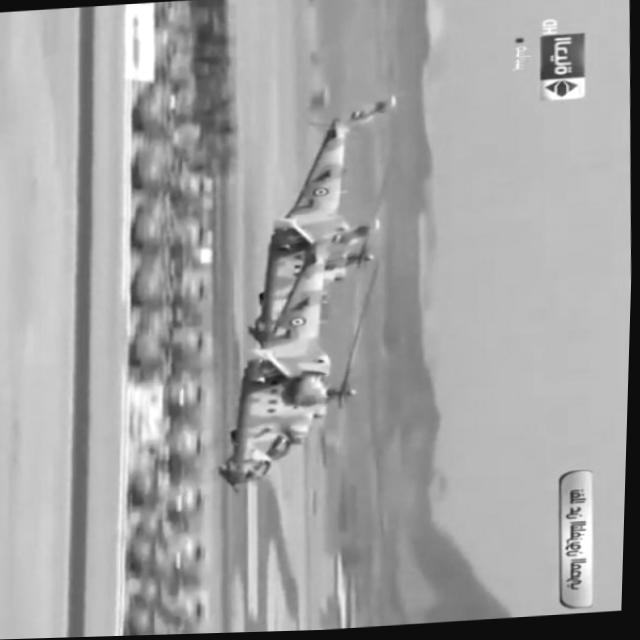helikopter: (218, 229, 374, 483)
